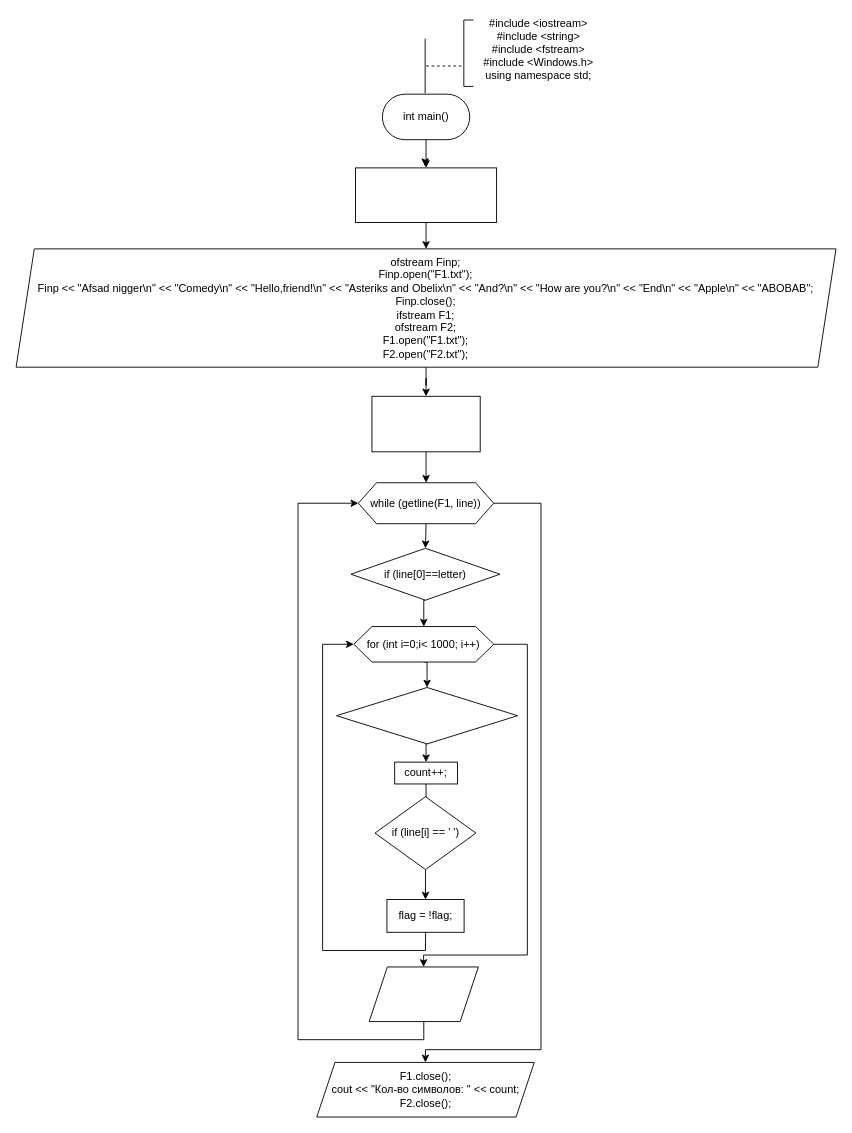
This 852x1133 diagram has some shape labels left out. The shapes that lost their labels are listed below. From the top down, each one's centre as x and y in pixels, then its label:
point 426,194: setlocale(LC_ALL, "rus");
point 425,423: string line = ""; char letter = 'a'; int count=0; bool flag=false;
point 427,715: if ((line[i] != ' ')&& (flag==false))
point 423,994: F2 << line << '\n';
